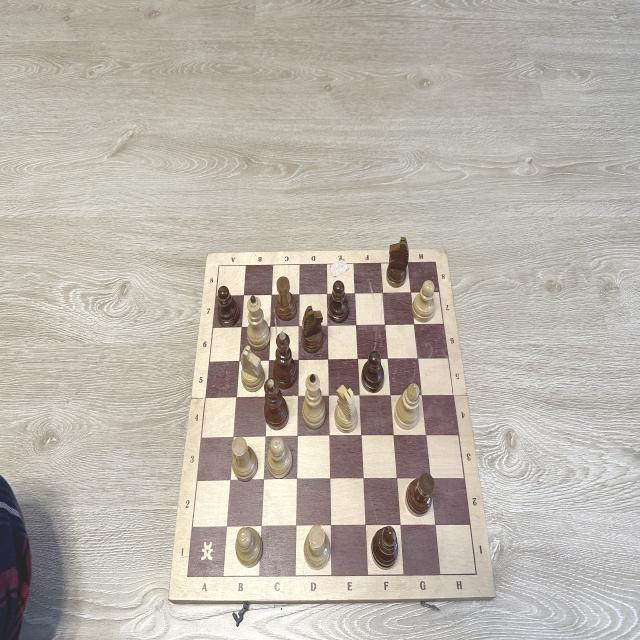chess-table-corners: (183, 571, 191, 582), (473, 570, 480, 578), (216, 261, 222, 270), (433, 259, 438, 265)
